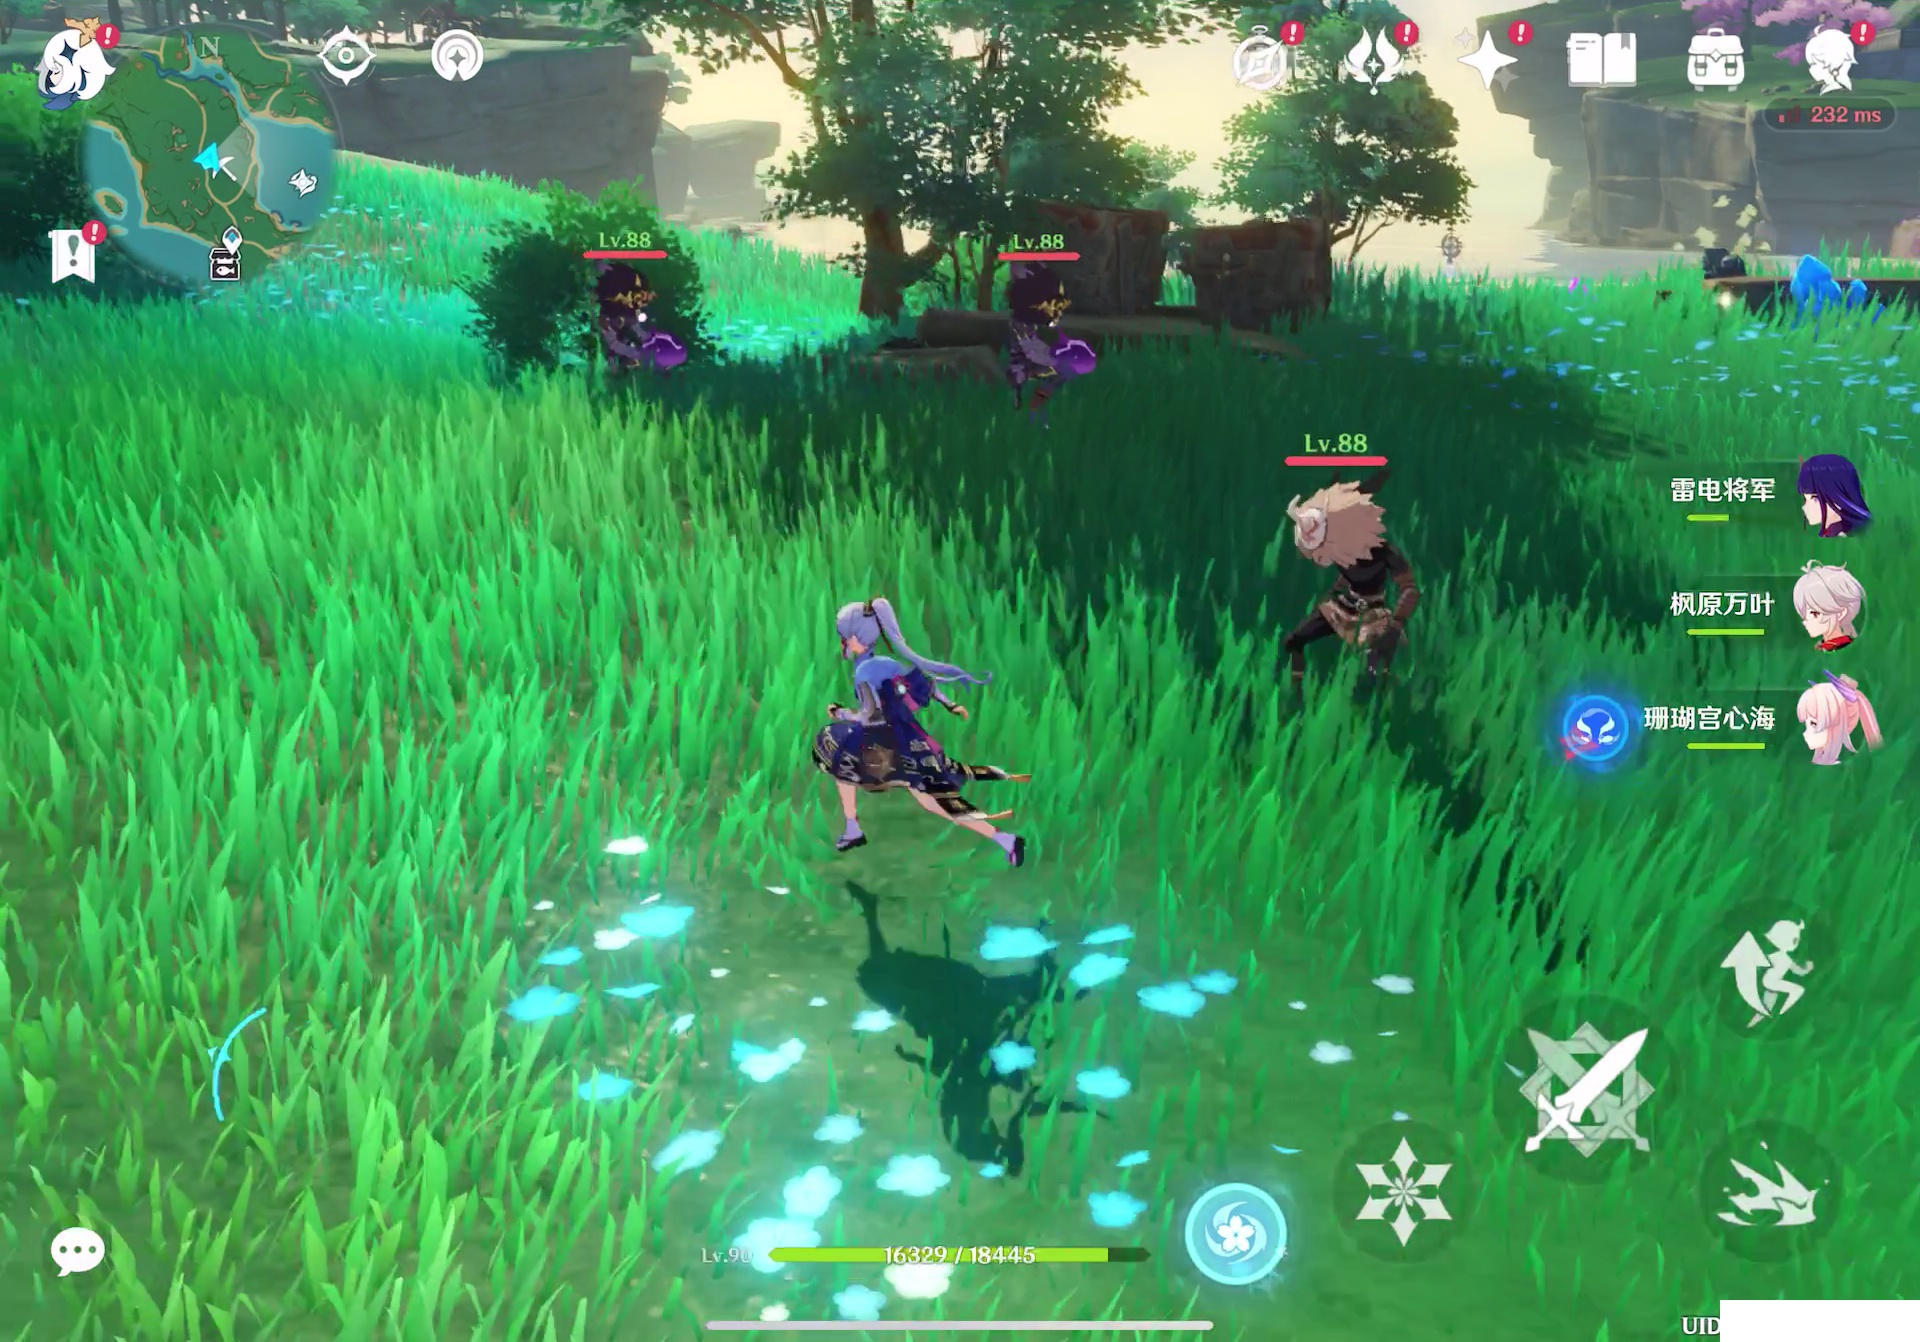丘丘人: (1261, 484, 1449, 710), (995, 276, 1123, 424), (594, 265, 684, 387)
神里绫龟: (783, 582, 1056, 885)
